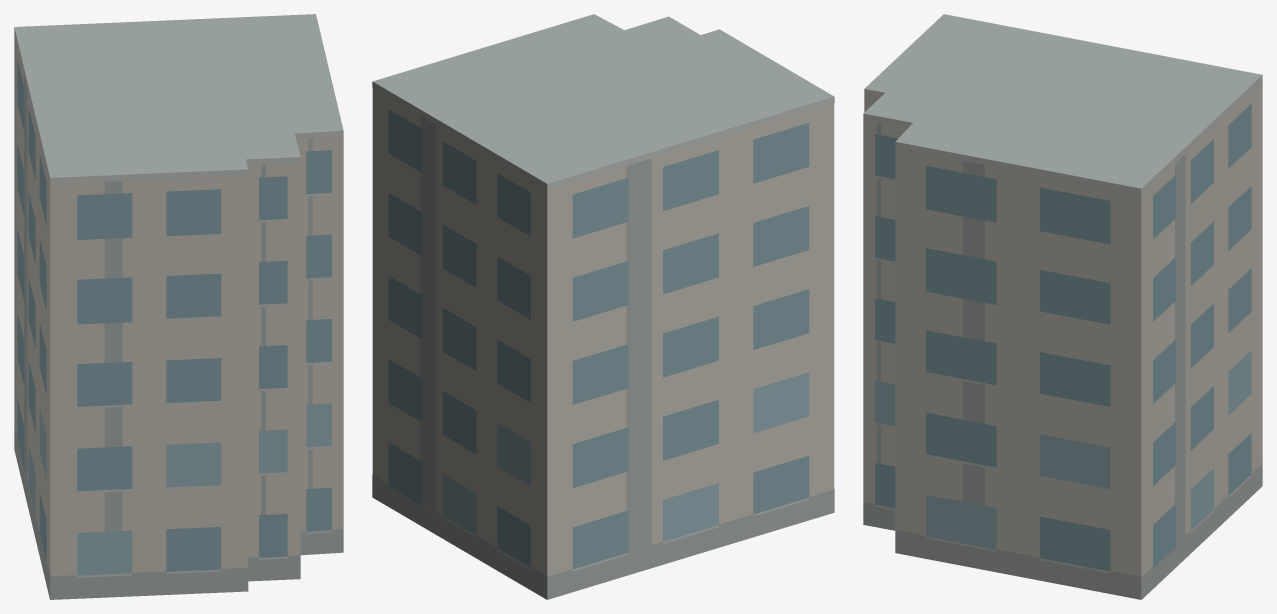
File: survey-upis-32972335.glb
3 views of the same model, side by side, from view 1: azimuth 30°, elevation 25°; view 2: azimuth 150°, elevation 25°; view 3: azimuth 270°, elevation 25° (orthographic). The views are drawn at different scales.
Visible parts, largest first — view 1: survey-upis-32972335.tmp; view 2: survey-upis-32972335.tmp; view 3: survey-upis-32972335.tmp.
Boxes of the visible parts, x1,y1,x2,y2 form: survey-upis-32972335.tmp: [14, 14, 343, 599]; survey-upis-32972335.tmp: [372, 14, 834, 599]; survey-upis-32972335.tmp: [863, 14, 1262, 599].
Size of the model in its own units: 14.58 by 16 by 14.09.
